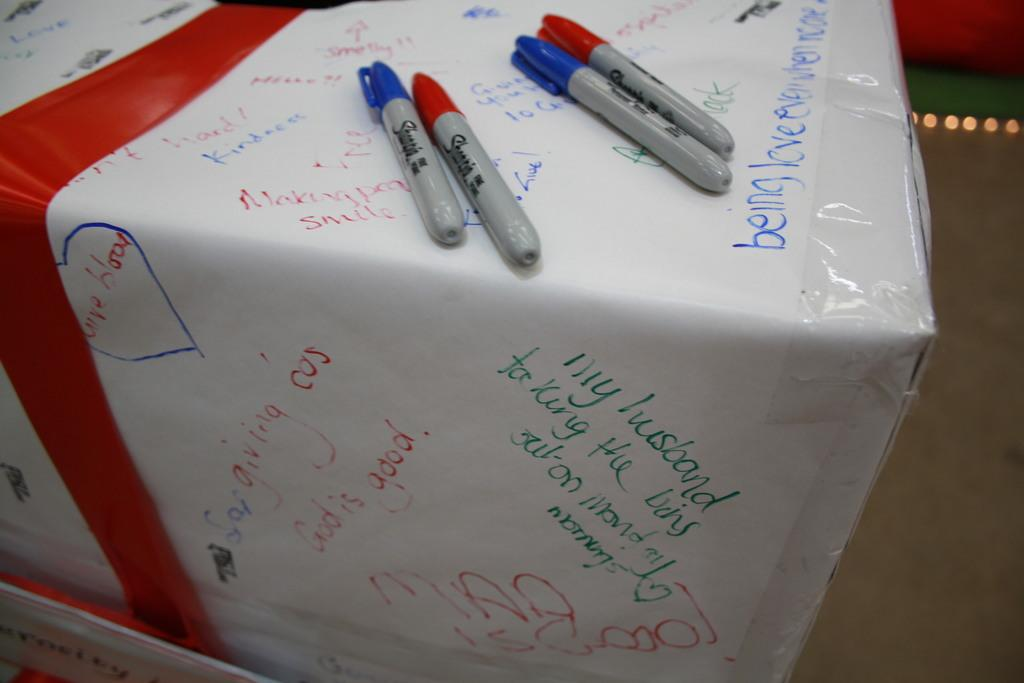pen: (514, 33, 739, 191), (540, 10, 737, 158), (409, 70, 535, 281), (355, 52, 465, 248)
